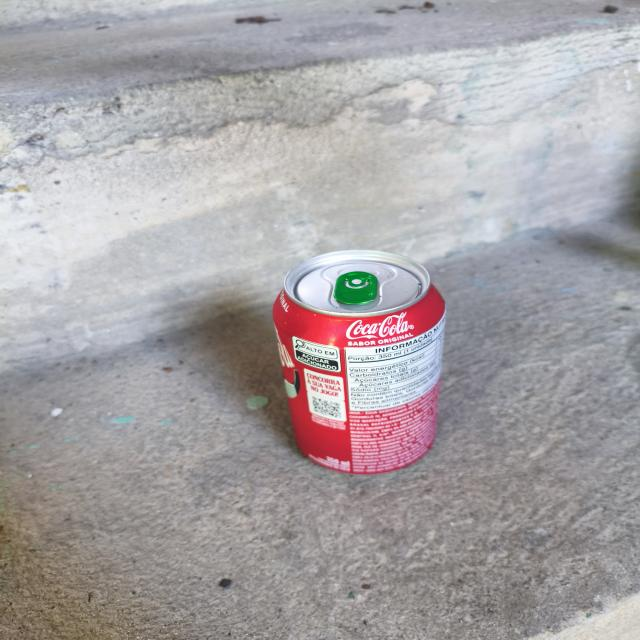Coca Cola: (255, 245, 472, 476)
